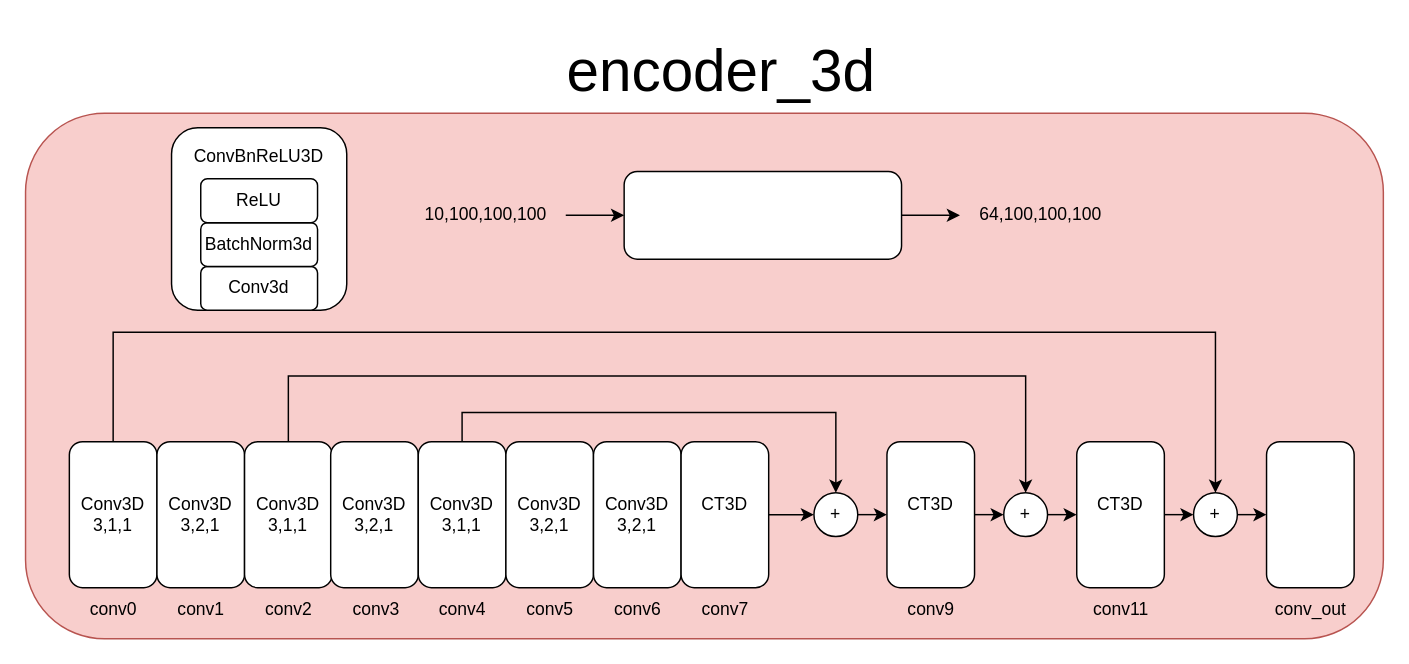
This 1409x664 diagram has some shape labels left out. The shapes that lost their labels are listed below. From the top down, each one's centre as x and y in pixels, then its label:
the point at 762,214: MultiLayer3DEncoderShallow (Point Cloud Voxel Encoder)
the point at 1309,514: Conv3D 1,1,0
